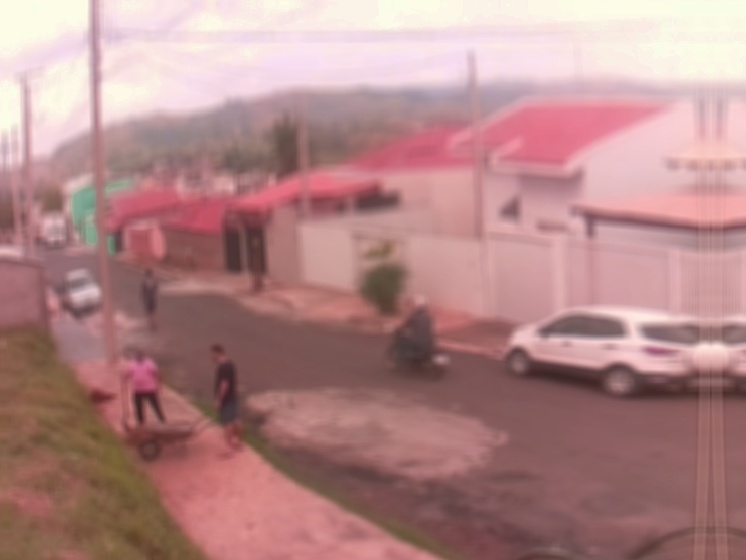person: (210, 343, 246, 460), (123, 346, 167, 425), (392, 297, 436, 370), (140, 267, 160, 332)
